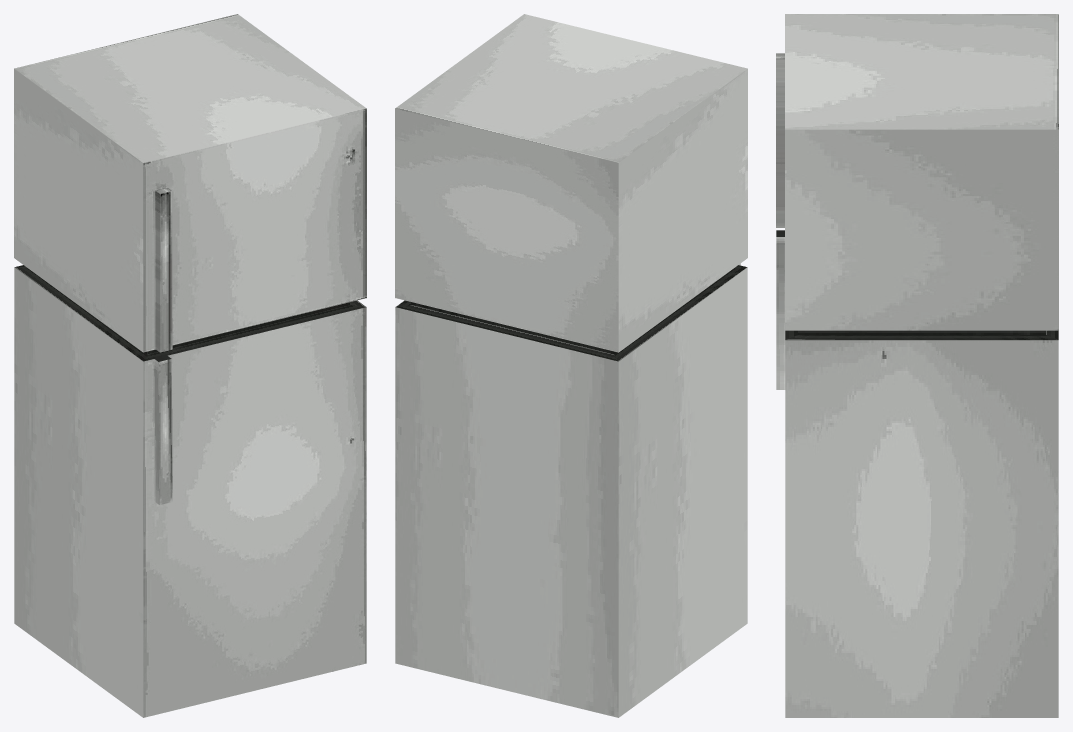
File: u_holodilnik_1_dvernyy_v2.glb
3 renders of one model, left to right at view 1: azimuth 30°, elevation 25°; view 2: azimuth 150°, elevation 25°; view 3: azimuth 270°, elevation 25°, orthographic. The views are drawn at different scales.
Visible parts, largest first — view 1: Cube.001; view 2: Cube.001; view 3: Cube.001.
Boxes of the visible parts, x1=… form: Cube.001: x1=14, y1=14, x2=366, y2=717; Cube.001: x1=395, y1=14, x2=747, y2=717; Cube.001: x1=776, y1=14, x2=1058, y2=717.
Bounding box in the file's own units: 0.8586 × 2.04 × 0.8868.
Materials: 1 (1 with a texture image).
